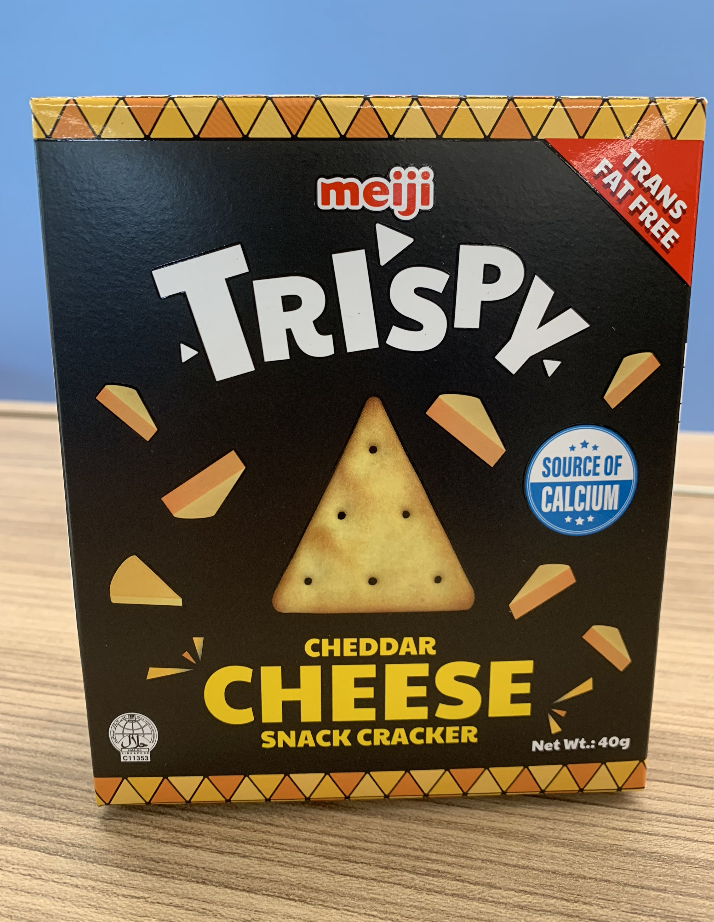crackers_50g: (87, 147, 650, 772)
